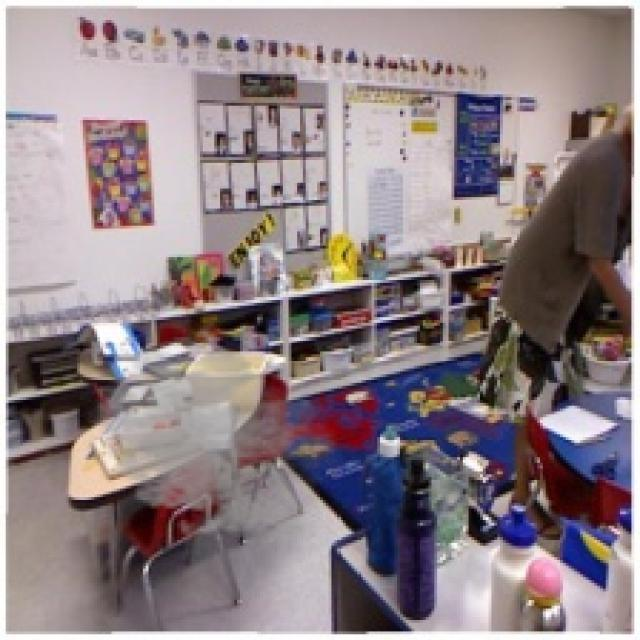Smoke: (83, 326, 346, 548)
